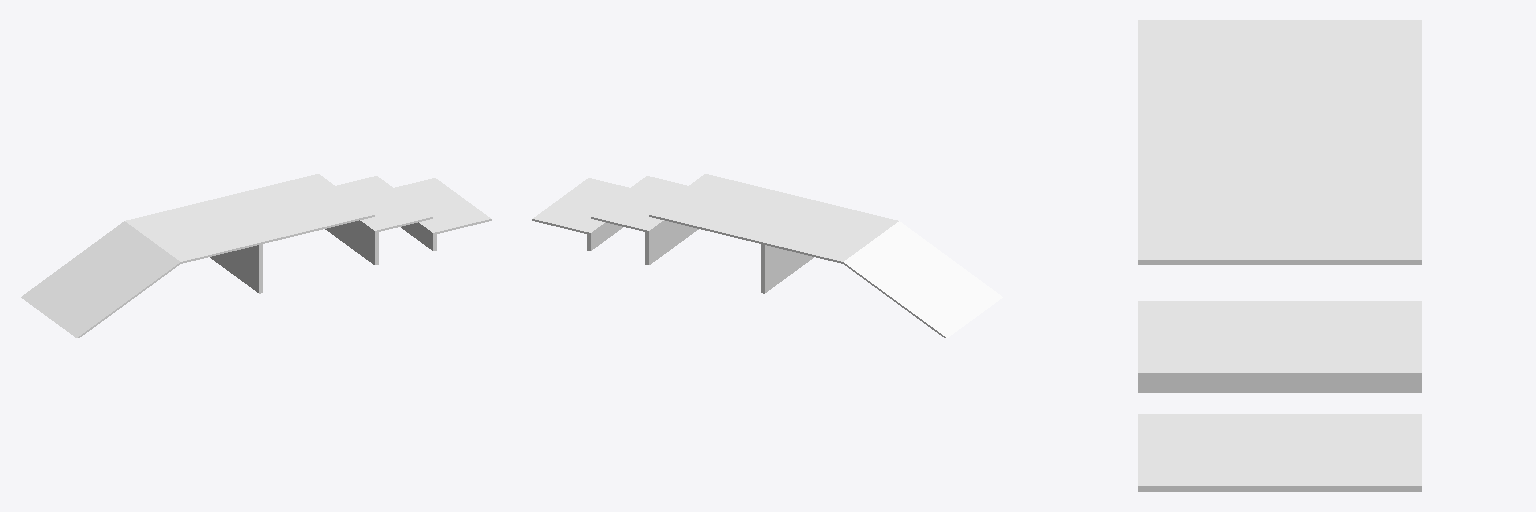
robot.urdf — map25:
<?xml version="1.0" encoding="utf-8"?>
<!-- This URDF was automatically created by SolidWorks to URDF Exporter! Originally created by [author] ([email redacted]) 
     Commit Version: 1.6.0-1-g15f4949  Build Version: 1.6.7594.29634
     For more information, please see http://wiki.ros.org/sw_urdf_exporter -->
<robot
  name="map25">
  <link
    name="map25">
    <inertial>
      <origin
        xyz="0.107548796793732 2.22044604925031E-16 -0.09645283014845"
        rpy="0 0 0" />
      <mass
        value="18.4902203097526" />
      <inertia
        ixx="0.676743921641237"
        ixy="2.4988481446281E-15"
        ixz="0.147443405208786"
        iyy="5.84775275844412"
        iyz="-7.28233322410193E-17"
        izz="6.28042205538804" />
    </inertial>
    <visual>
      <origin
        xyz="0 0 0"
        rpy="0 0 0" />
      <geometry>
        <mesh
          filename="package://map25/meshes/map25.STL" />
      </geometry>
      <material
        name="">
        <color
          rgba="1 1 1 1" />
      </material>
    </visual>
    <collision>
      <origin
        xyz="0 0 0"
        rpy="0 0 0" />
      <geometry>
        <mesh
          filename="package://map25/meshes/map25.STL" />
      </geometry>
    </collision>
  </link>
</robot>

--- What the picture shows (computed from the rendered views, not written in the file) ---
The picture shows the robot from 3 angles, left to right: view 1: azimuth 30°, elevation 25°; view 2: azimuth 150°, elevation 25°; view 3: azimuth 270°, elevation 25°; orthographic projection.
Model map25 with 1 links and 0 joints (none), rooted at map25, posed every joint at zero.
Visible links, largest first — view 1: map25; view 2: map25; view 3: map25.
Link boxes in pixels (x1,y1,x2,y2): map25: (21,174,491,337); map25: (532,174,1002,337); map25: (1138,20,1421,491).
Size in the robot's own frame: 2.13 by 0.5 by 0.25 metres.
Meshes: 1 distinct files referenced, 1 mesh visuals loaded (1 binary STL).